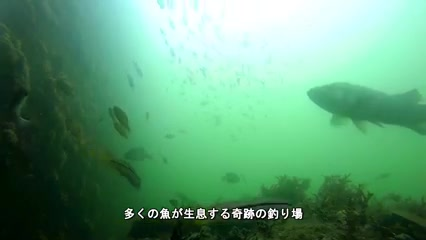smallfish: (108, 103, 136, 131), (219, 170, 241, 185)
suzuki: (303, 74, 426, 137)
